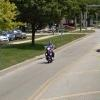Motorcycle: (40, 39, 58, 64)
